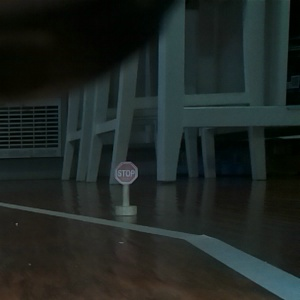stop sign: (112, 159, 139, 218)
